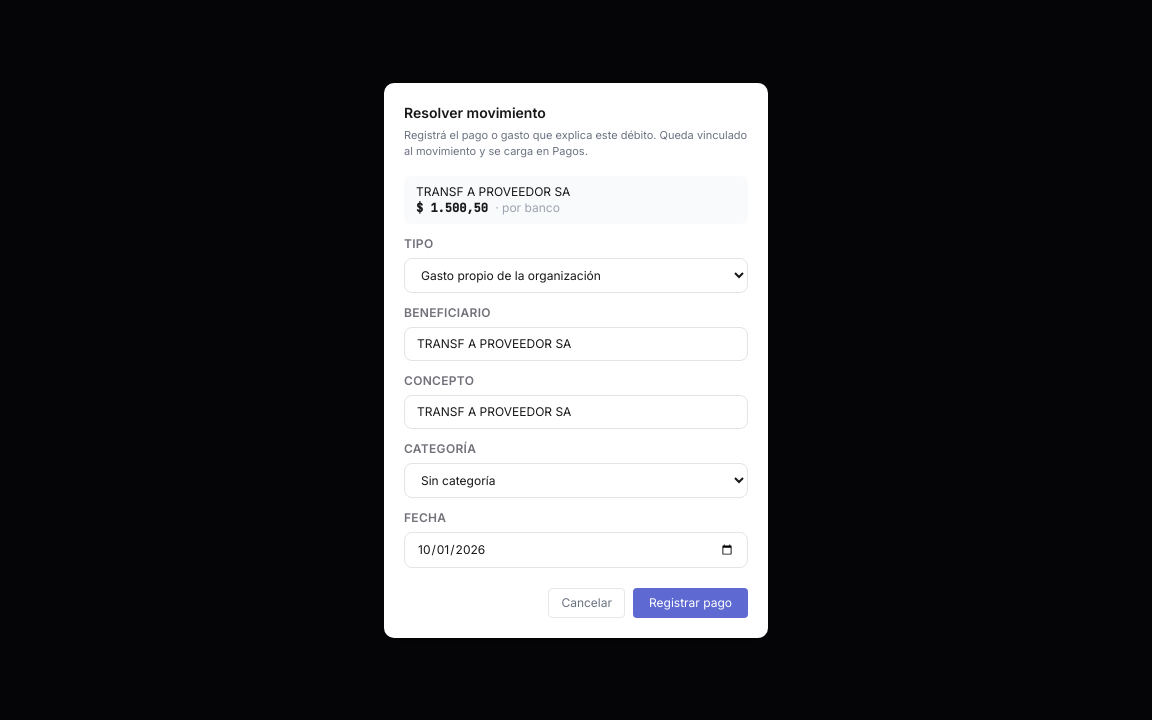
it: ResolverMovimientoModal › una OP por cuenta de cliente exige elegir el cliente
Select "OP por cuenta de un cliente" in the dropdown labelled "Tipo" at coordinates (576, 275), box [404,258,748,292]
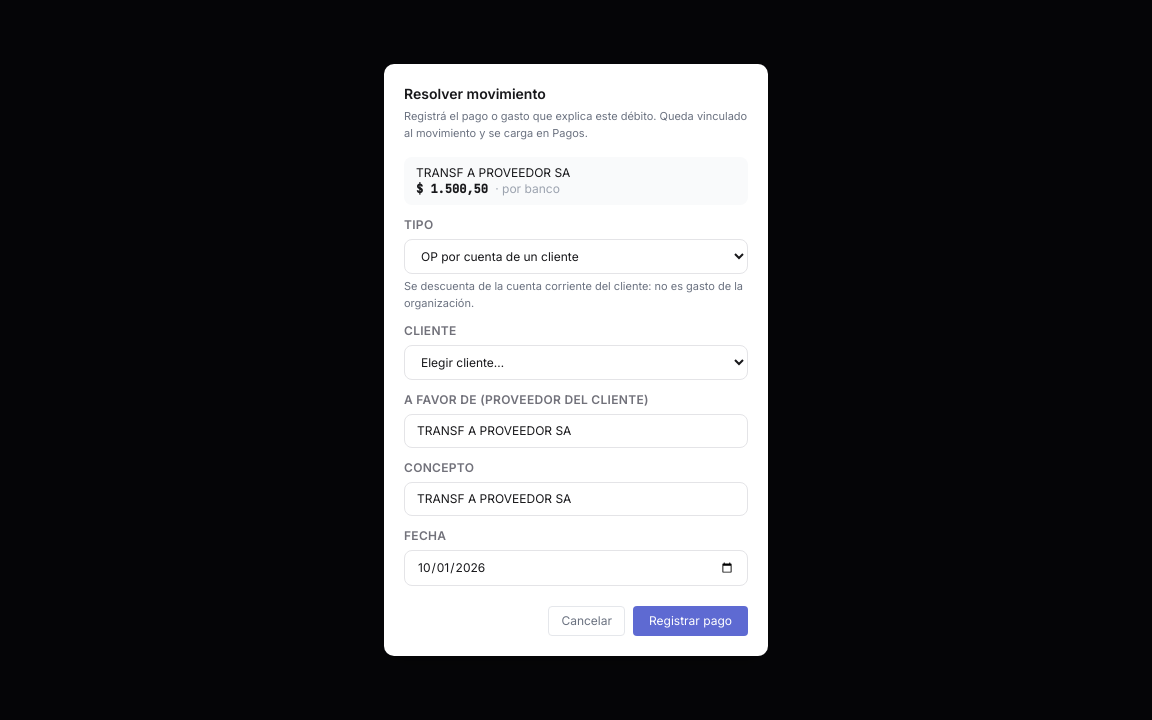
Check: the dropdown labelled "Cliente" is shown, box [404,345,748,380]
Click the button "Registrar pago".
click(690, 621)  # box [633,606,748,636]
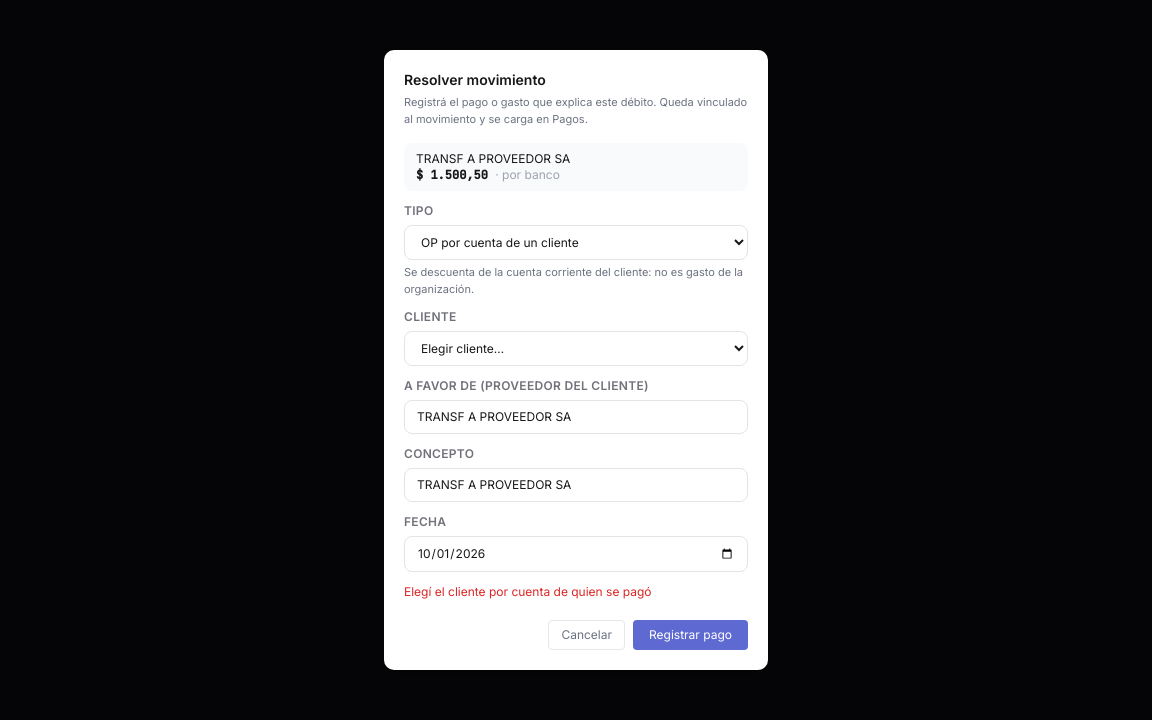
Check: the text "Elegí el cliente por cuenta de quien se pagó" is shown, box [404,584,652,599]
